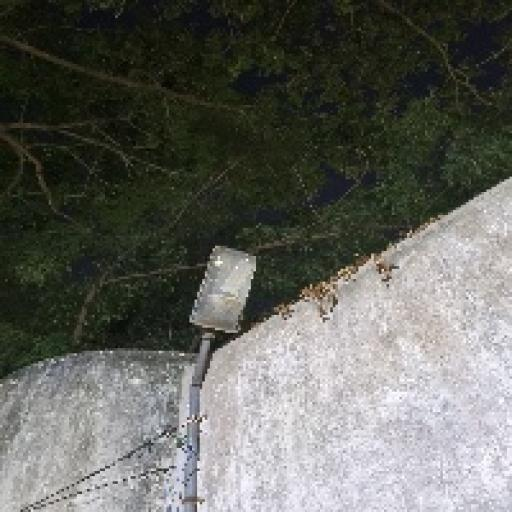Not Working: (172, 234, 269, 356)
